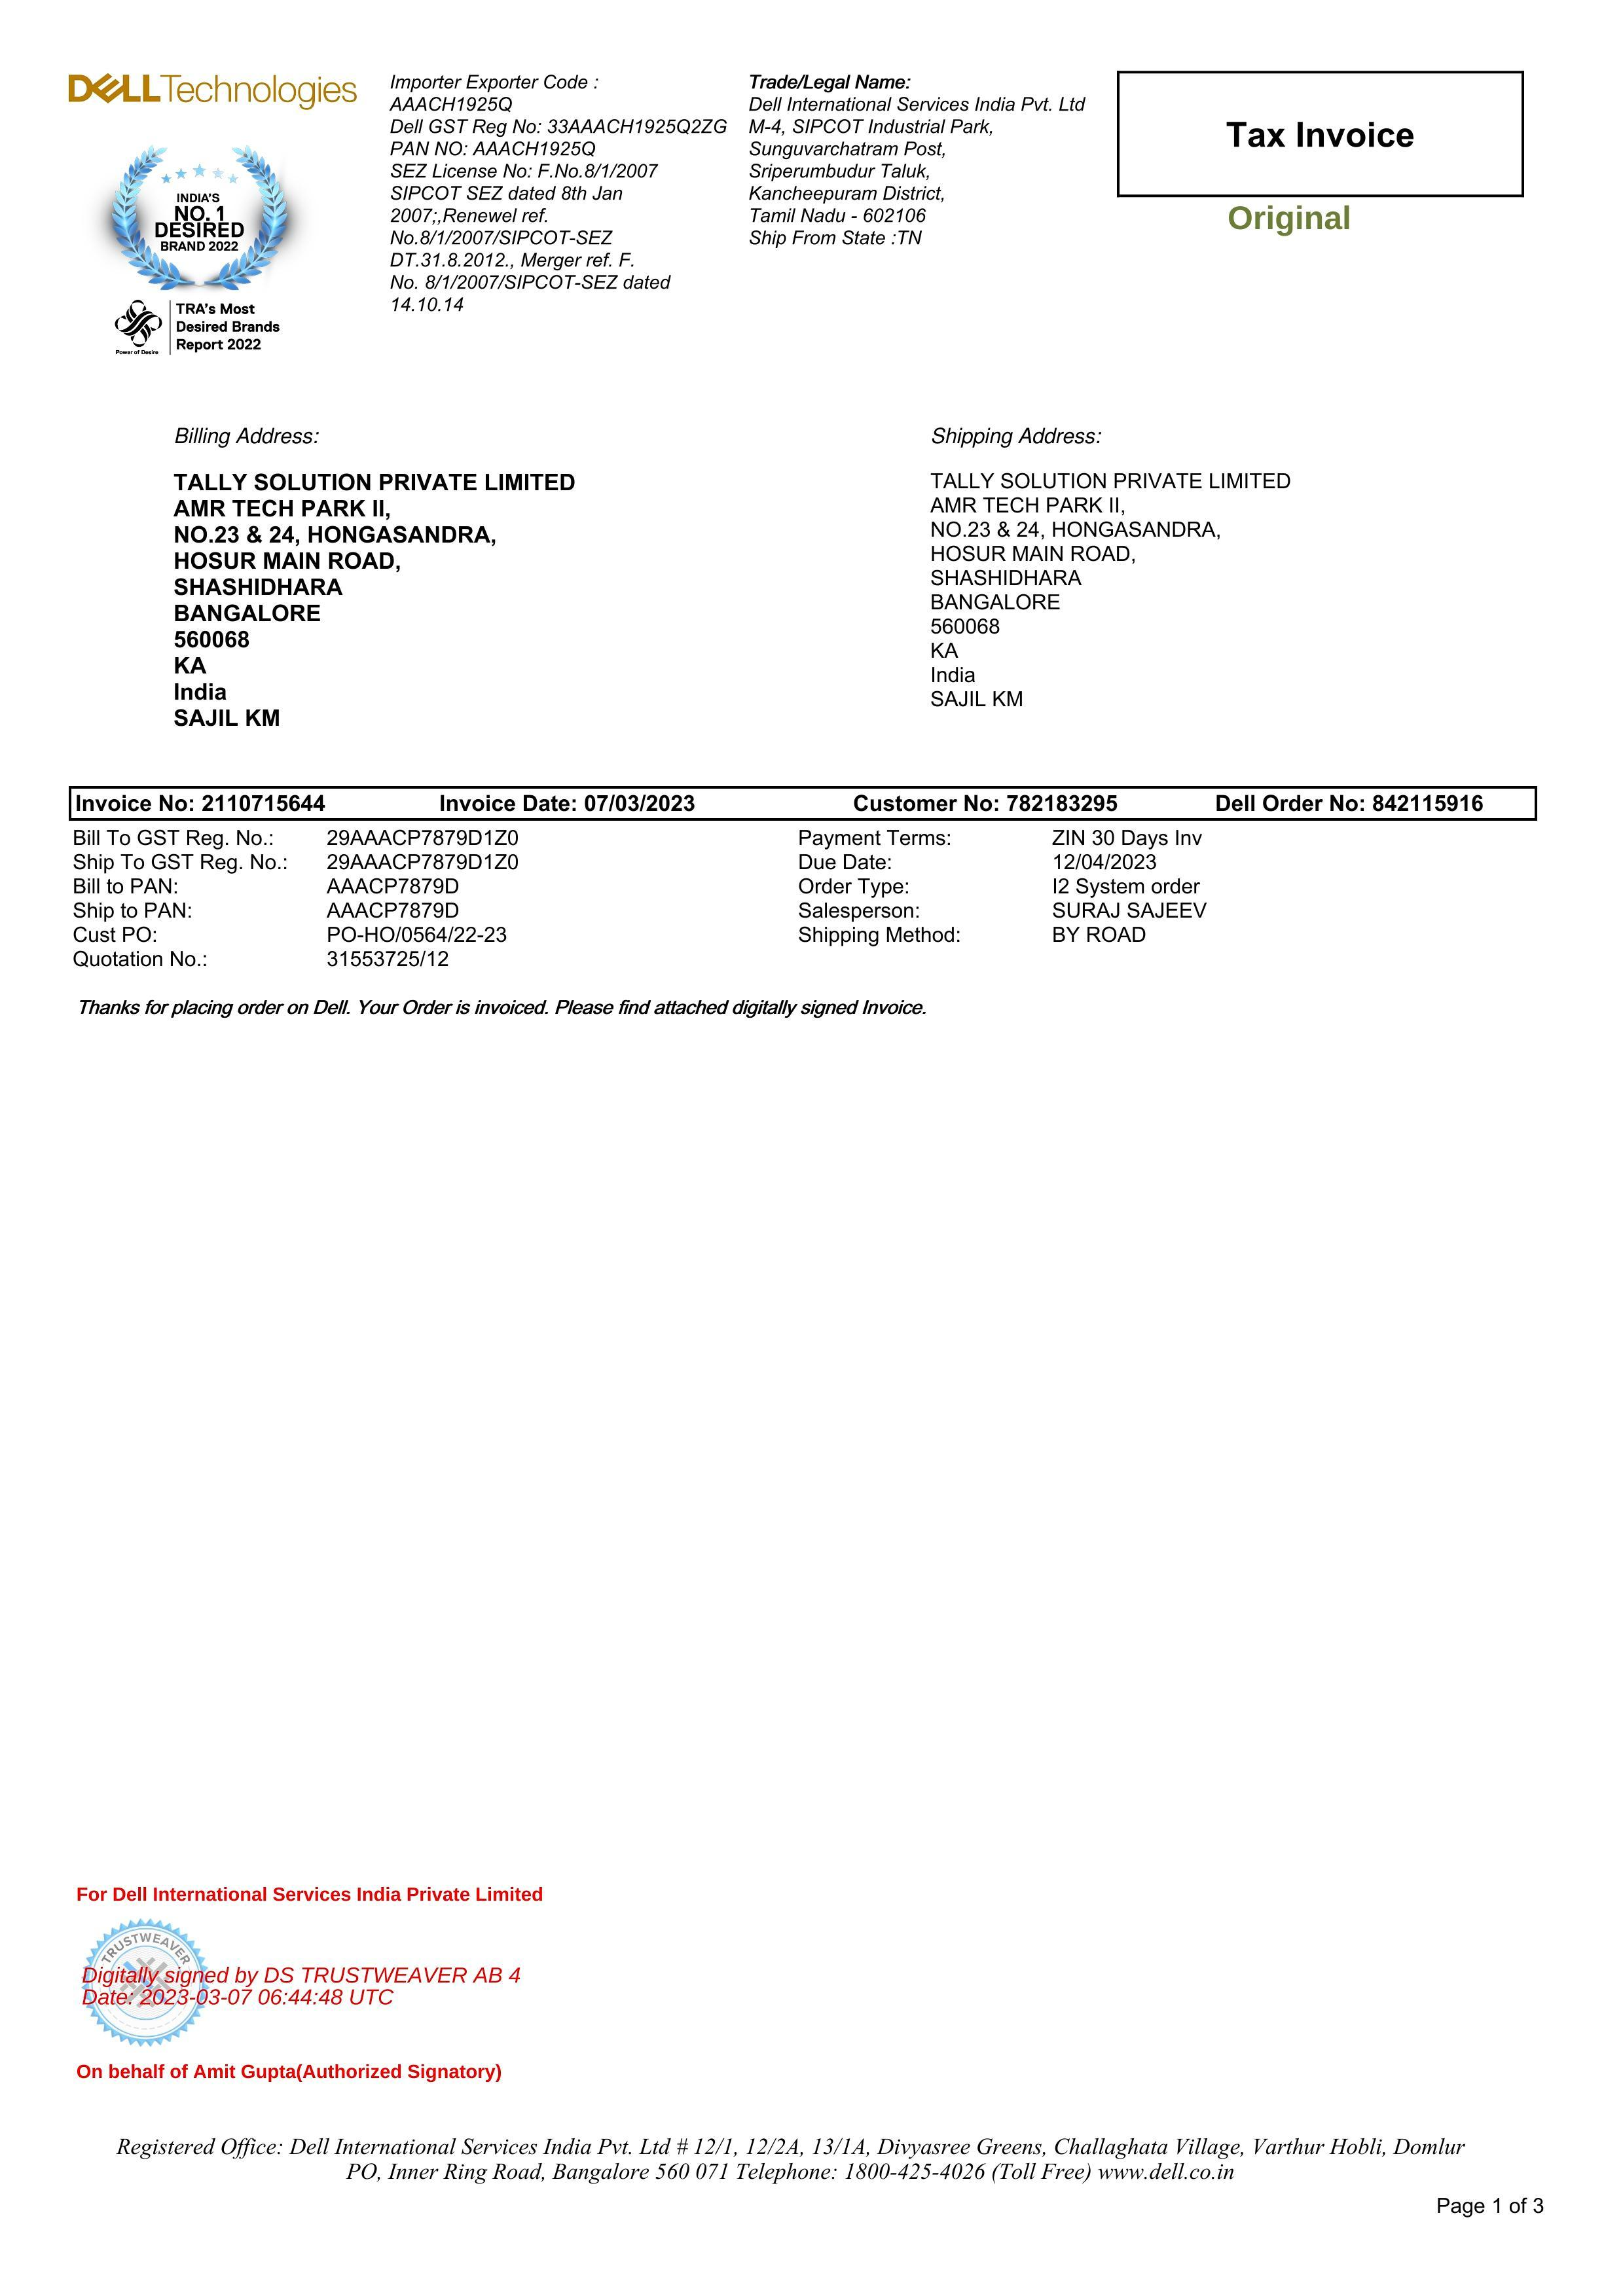InvoiceDate: (578, 790, 699, 816)
InvoiceNumber: (198, 790, 332, 816)
